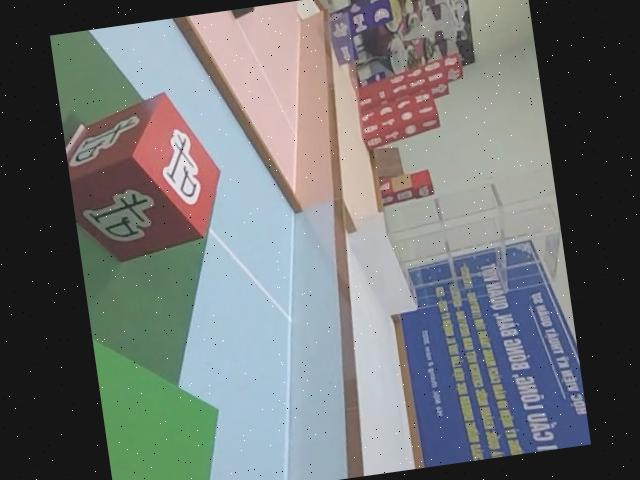R2 Real: (60, 88, 234, 271)
